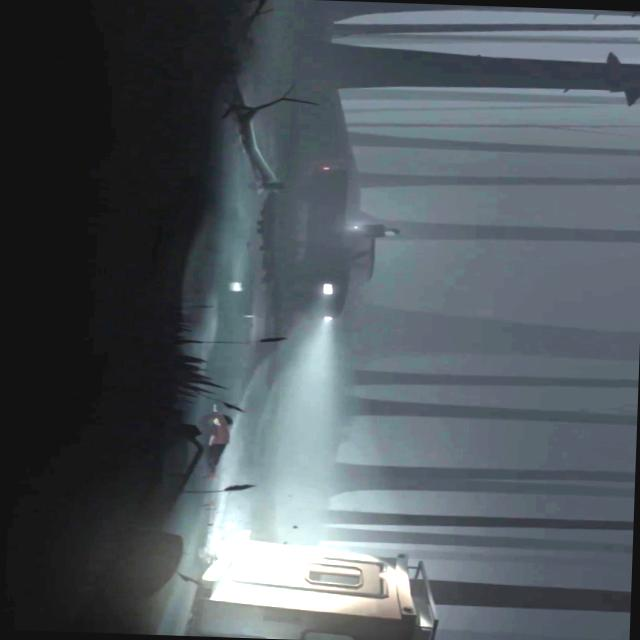boy: (200, 402, 238, 473)
human: (359, 223, 398, 238)
